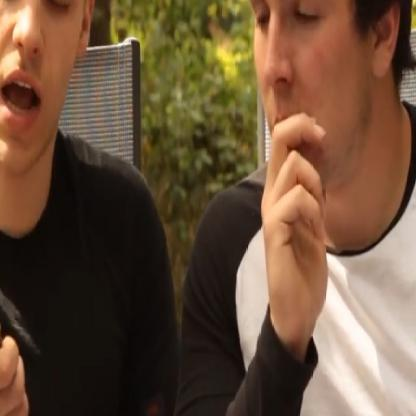knife: (0, 203, 35, 415)
